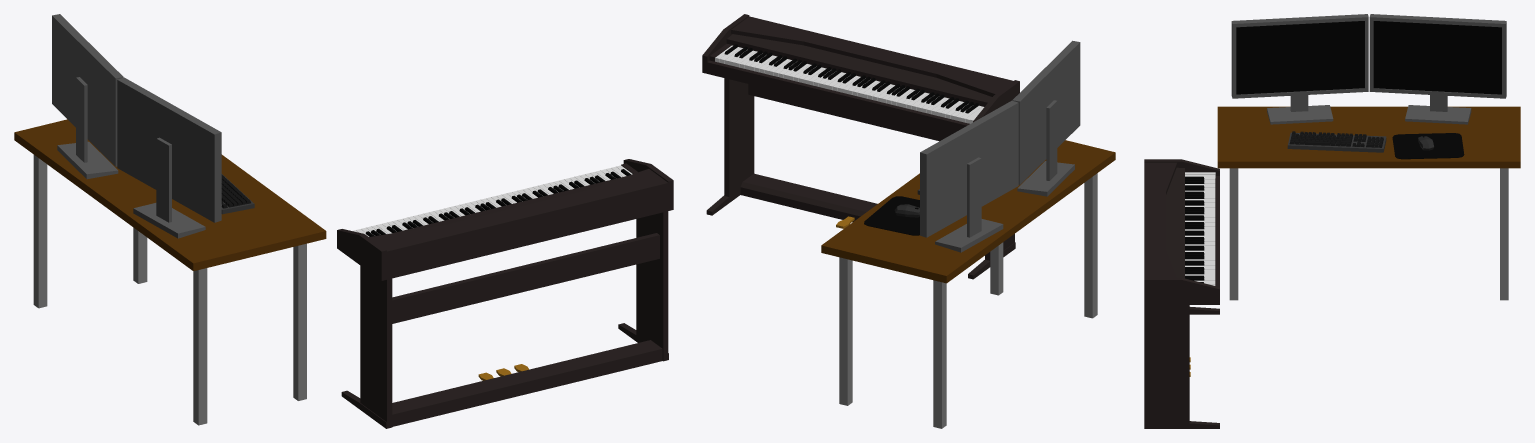
Rendered from PortfolioModel.glb.
3 renders of one model, left to right at view 1: azimuth 30°, elevation 25°; view 2: azimuth 150°, elevation 25°; view 3: azimuth 270°, elevation 25°, orthographic. The views are drawn at different scales.
Visible parts, largest first — view 1: Piano, Tabletop, MonitorScreen, TableLegs, MonitorScreen.001, MonitorStand, MonitorBase.001, MonitorBase, MonitorStand.001; view 2: Piano, Tabletop, MonitorScreen.001, TableLegs, MonitorScreen, Mousepad, MonitorStand.001, MonitorBase, MonitorBase.001, MonitorStand; view 3: Piano, Tabletop, MonitorScreen, MonitorScreen.001, TableLegs, Mousepad, MonitorBase.001, MonitorBase, Keyboard.
Boxes of the visible parts, x1,y1,x2,y2 form: Piano: [337, 159, 673, 428]; Tabletop: [14, 119, 326, 271]; MonitorScreen: [117, 77, 221, 222]; TableLegs: [33, 155, 306, 425]; MonitorScreen.001: [52, 14, 123, 166]; MonitorStand: [156, 137, 171, 222]; MonitorBase.001: [57, 141, 118, 179]; MonitorBase: [133, 203, 205, 238]; MonitorStand.001: [76, 77, 87, 162]; Piano: [702, 14, 1019, 279]; Tabletop: [821, 140, 1115, 283]; MonitorScreen.001: [920, 100, 1018, 237]; TableLegs: [839, 173, 1097, 428]; MonitorScreen: [1012, 40, 1080, 184]; Mousepad: [864, 196, 919, 235]; MonitorStand.001: [967, 157, 981, 237]; MonitorBase: [1017, 161, 1074, 196]; MonitorBase.001: [935, 219, 1003, 252]; MonitorStand: [1046, 100, 1057, 180]; Piano: [1144, 159, 1219, 428]; Tabletop: [1217, 106, 1520, 168]; MonitorScreen: [1231, 14, 1368, 98]; MonitorScreen.001: [1369, 14, 1506, 98]; TableLegs: [1229, 168, 1508, 300]; Mousepad: [1392, 133, 1464, 159]; MonitorBase.001: [1405, 105, 1471, 124]; MonitorBase: [1267, 105, 1333, 124]; Keyboard: [1287, 132, 1386, 152].
Bounding box in the file's own units: 1.97 × 1.23 × 1.74.
